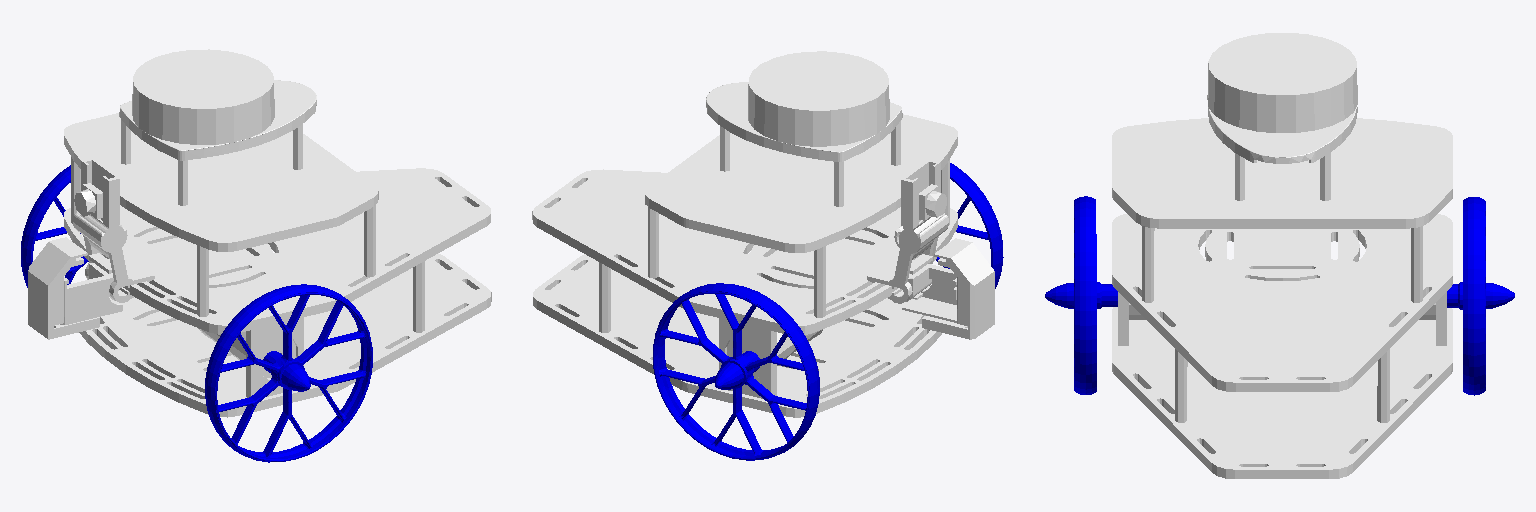
URDF robot description (puzzlebot):
<?xml version="1.0"?>
<robot name="puzzlebot"
    xmlns:xacro="http://www.ros.org/wiki/xacro">

    <!-- Materials -->
    <material name="White">
        <color rgba="1 1 1 1"/>
    </material>
    <material name="Blue">
        <color rgba="0 0 1 1"/>
    </material>
    <material name="Orange">
        <color rgba="1 0.5 0 1"/>
    </material>

    <!-- Base Footprint (Body) -->
    <link name="base_footprint">
        <visual>
            <origin xyz="0.052 0.0 0.10" rpy="1.57 0.0 0.0"/>
            <geometry>
                <mesh filename="package://puzzlebot_description/meshes/MCR2_puzzlebot_jetson_lidar_base.stl" scale="1.0 1.0 1.0"/>
            </geometry>
            <material name="White"/>
        </visual>
    </link>

    <joint name="base_link_joint" type="fixed">
        <parent link="base_footprint"/>
        <child link="base_link"/>
        <origin xyz="0 0 0.05" rpy="0 0 0"/>
    </joint>

    <!-- Base Link -->
    <link name="base_link"/>

    <!-- Right Wheel -->
    <link name="wheel_r_link">
        <visual>
            <origin xyz="0.0 0.0 0.0" rpy="3.14 1.57 0"/>
            <geometry>
                <mesh filename="package://puzzlebot_description/meshes/MCR2_wheel.stl" scale="1.0 1.0 1.0"/>
            </geometry>
            <material name="Blue"/>
        </visual>
    </link>

    <joint name="wheel_r_joint" type="continuous">
        <parent link="base_link"/>
        <child link="wheel_r_link"/>
        <origin xyz="0.052 -0.095 -0.0025" rpy="0 0 1.57"/>
    </joint>

    <!-- Left Wheel -->
    <link name="wheel_l_link">
        <visual>
            <origin xyz="0.0 0.0 0.0" rpy="0 1.57 0"/>
            <geometry>
                <mesh filename="package://puzzlebot_description/meshes/MCR2_wheel.stl" scale="1.0 1.0 1.0"/>
            </geometry>
            <material name="Blue"/>
        </visual>
    </link>

    <joint name="wheel_l_joint" type="continuous">
        <parent link="base_link"/>
        <child link="wheel_l_link"/>
        <origin xyz="0.052 0.095 -0.0025" rpy="0 0 1.57"/>
    </joint>

    <!-- Caster Wheel -->
    <link name="caster_link">
        <visual>
            <geometry>
                <mesh filename="package://puzzlebot_description/meshes/MCR2_caster_wheel.stl" scale="1.0 1.0 1.0"/>
            </geometry>
            <material name="Blue"/>
        </visual>
    </link>

    <joint name="caster_joint" type="fixed">
        <parent link="base_link"/>
        <child link="caster_link"/>
        <origin xyz="0.175 0 -0.04" rpy="0 0 0"/>
    </joint>


</robot>

--- Render facts (derived) ---
3 views of the same robot in one strip: view 1: azimuth 30°, elevation 25°; view 2: azimuth 150°, elevation 25°; view 3: azimuth 270°, elevation 25° (orthographic).
Robot: puzzlebot — 5 links, 4 joints (2 continuous, 2 fixed); root link base_footprint; default pose: every joint at zero.
Links seen in each view (by area): view 1: base_footprint, wheel_r_link, wheel_l_link; view 2: base_footprint, wheel_l_link, wheel_r_link; view 3: base_footprint, wheel_r_link, wheel_l_link.
Boxes of the visible links, bbox=[...] form: base_footprint: bbox=[28, 49, 491, 417]; wheel_r_link: bbox=[205, 284, 372, 462]; wheel_l_link: bbox=[21, 165, 88, 287]; base_footprint: bbox=[532, 51, 994, 417]; wheel_l_link: bbox=[653, 283, 819, 460]; wheel_r_link: bbox=[936, 163, 1003, 288]; base_footprint: bbox=[1112, 33, 1452, 478]; wheel_r_link: bbox=[1045, 196, 1117, 394]; wheel_l_link: bbox=[1447, 197, 1514, 395].
Bounding box of the posed robot: 0.2444 × 0.2208 × 0.1688 m (x, y, z).
Meshes: 3 distinct files referenced, 3 mesh visuals loaded (2 binary STL); not drawn: 1 (reference not matched to a file when rendering).
